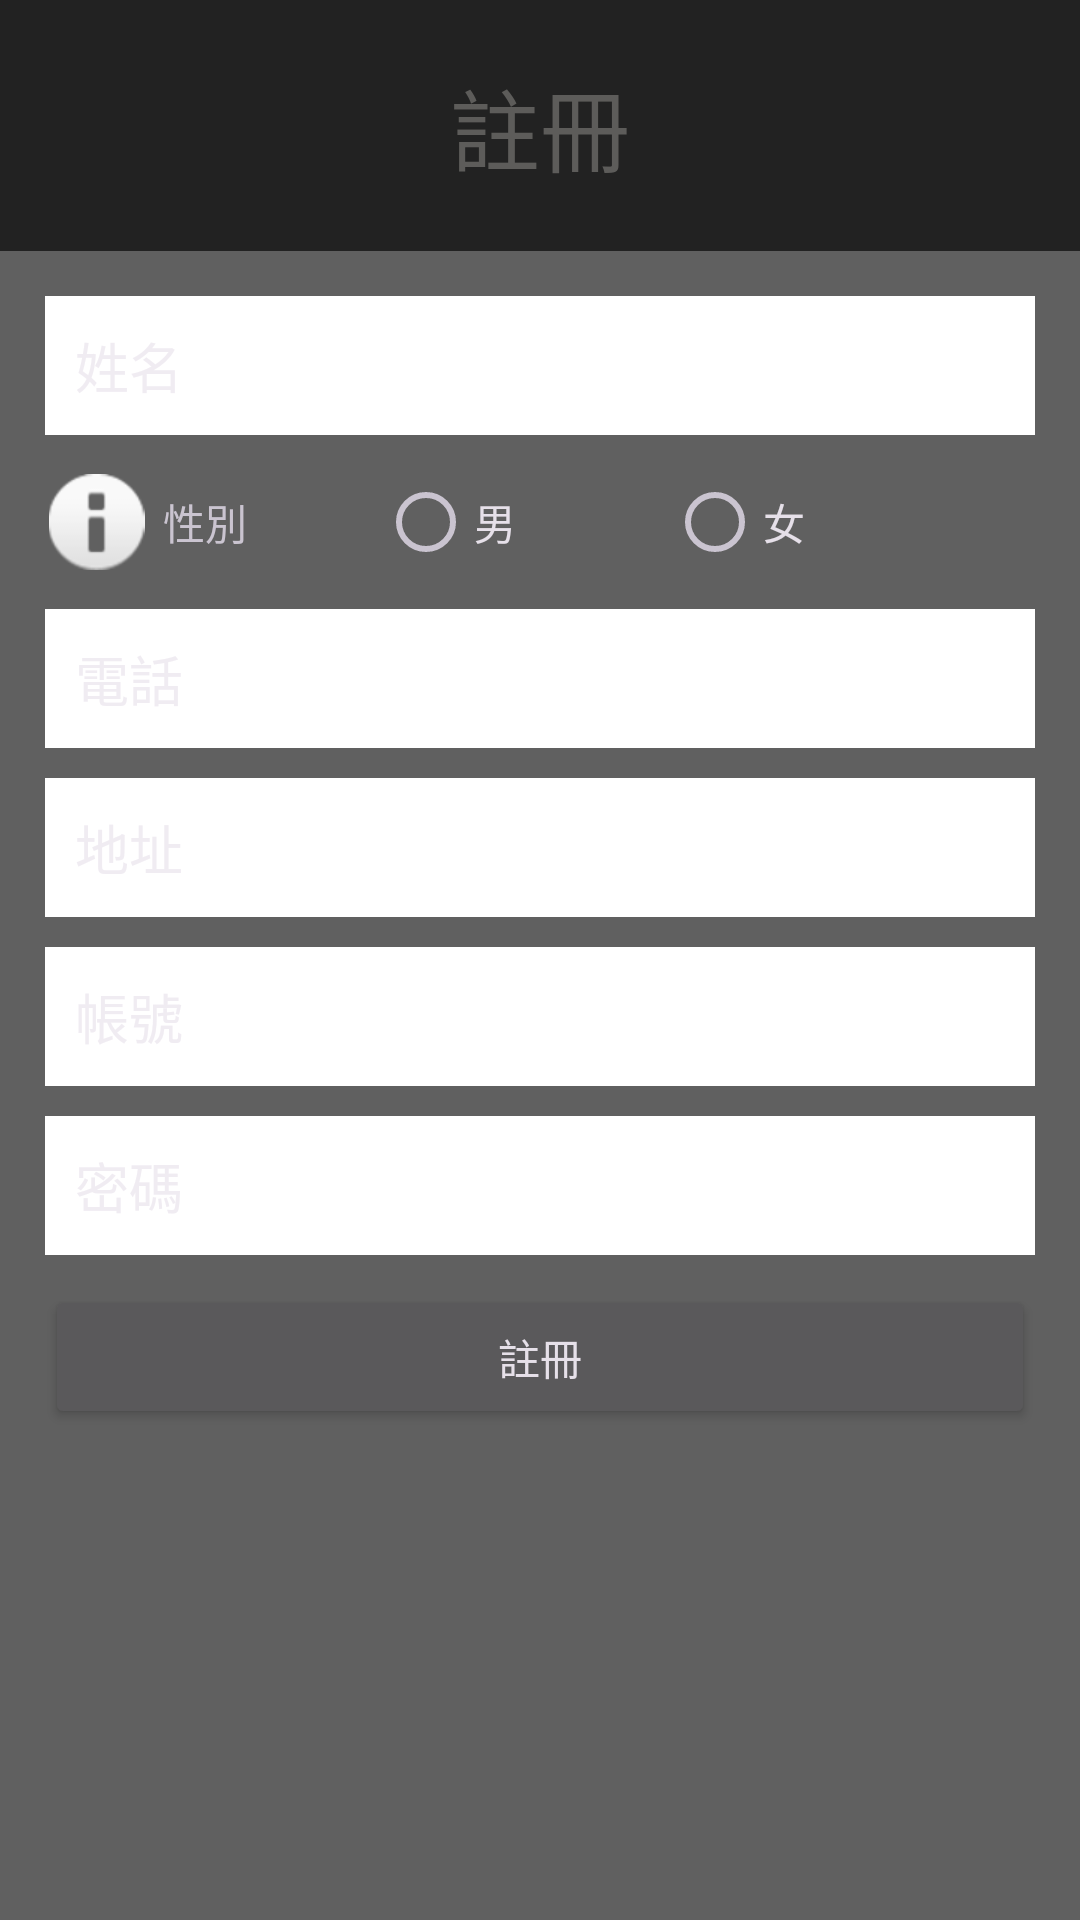

Icon click points for this 1080x1920 phone screenshot, format point (x, y):
info: point (97, 522)
